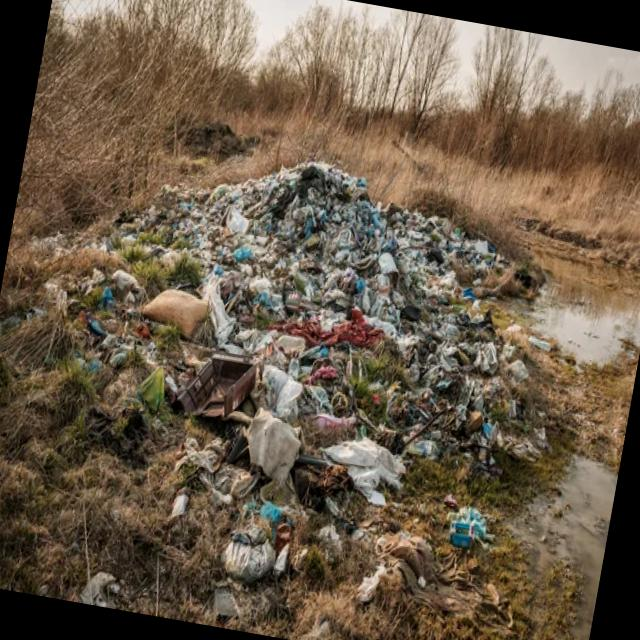garbage: (131, 118, 582, 546)
